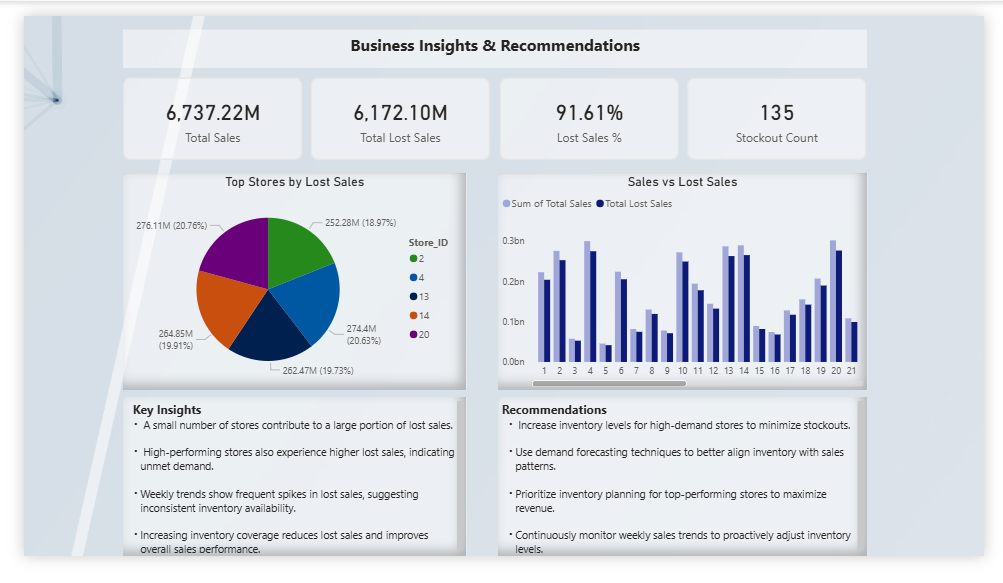

Layout of this report page (visuals, bound fields, positions):
{"tool":"powerbi","page":{"name":"Business Insights","canvas":[1280,720],"ordinal":2},"visuals":[{"type":"textbox","box":[131.2,17.1,992.3,51.3],"z":0},{"type":"card","fields":{"Values":["fact_sales.Stockout Count"]},"box":[884,82.4,239.5,110.3],"z":1000},{"type":"card","fields":{"Values":["fact_sales.Lost Sales %"]},"box":[633,82.4,239.5,110.3],"z":2000},{"type":"pieChart","title":"Top Stores by Lost Sales","fields":{"Category":["dim_store.Store_ID"],"Y":["fact_sales.Total Lost Sales"]},"box":[131.2,209.1,458.1,289],"z":3000},{"type":"clusteredColumnChart","title":"Sales vs Lost Sales","fields":{"Category":["dim_store.Store_ID"],"Y":["Sum(fact_sales.Total Sales)","fact_sales.Total Lost Sales"]},"box":[631.1,209.1,492.4,289],"z":4000},{"type":"textbox","box":[131.2,507.6,458.1,212.9],"z":5000},{"type":"textbox","box":[631,508,492,212],"z":6000},{"type":"card","fields":{"Values":["Sum(fact_sales.Total Sales)"]},"box":[131.2,81.7,239.5,110.3],"z":7000},{"type":"card","fields":{"Values":["fact_sales.Total Lost Sales"]},"box":[382.1,81.7,239.5,110.3],"z":8000}]}

Visuals, with their boxes on the page's 1280x720 design canvas (x1, y1, x2, y2). These are canvas units, not pixel positions in the 1003x583 screenshot, which may show the page scaled, cropped or inside an application window:
textbox: BBox(131, 17, 1124, 68)
card - fact_sales.Stockout Count: BBox(884, 82, 1124, 193)
card - fact_sales.Lost Sales %: BBox(633, 82, 872, 193)
"Top Stores by Lost Sales" pieChart: BBox(131, 209, 589, 498)
"Sales vs Lost Sales" clusteredColumnChart: BBox(631, 209, 1124, 498)
textbox: BBox(131, 508, 589, 720)
textbox: BBox(631, 508, 1123, 720)
card - Sum(fact_sales.Total Sales): BBox(131, 82, 371, 192)
card - fact_sales.Total Lost Sales: BBox(382, 82, 622, 192)
